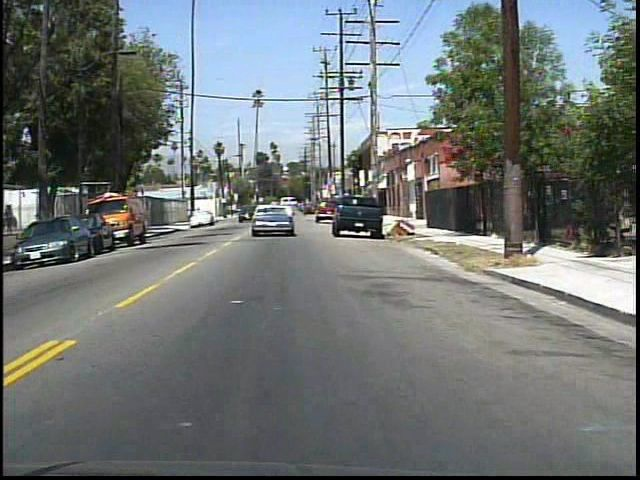person: (4, 203, 18, 236)
